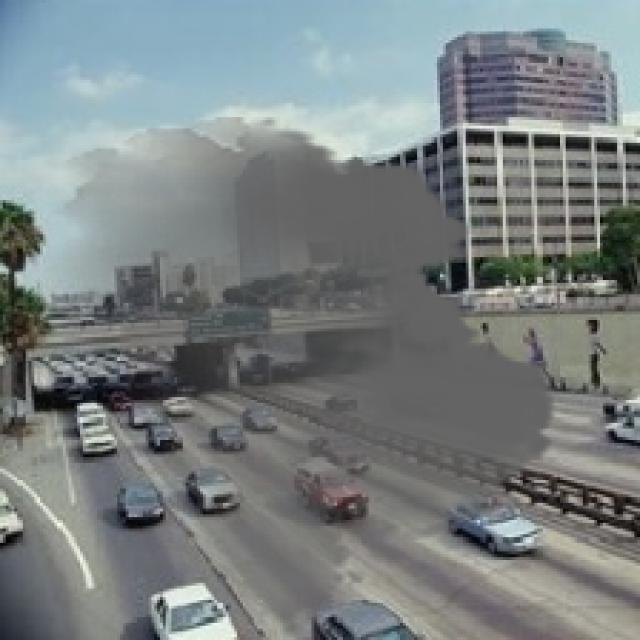Smoke: (37, 117, 574, 637)
